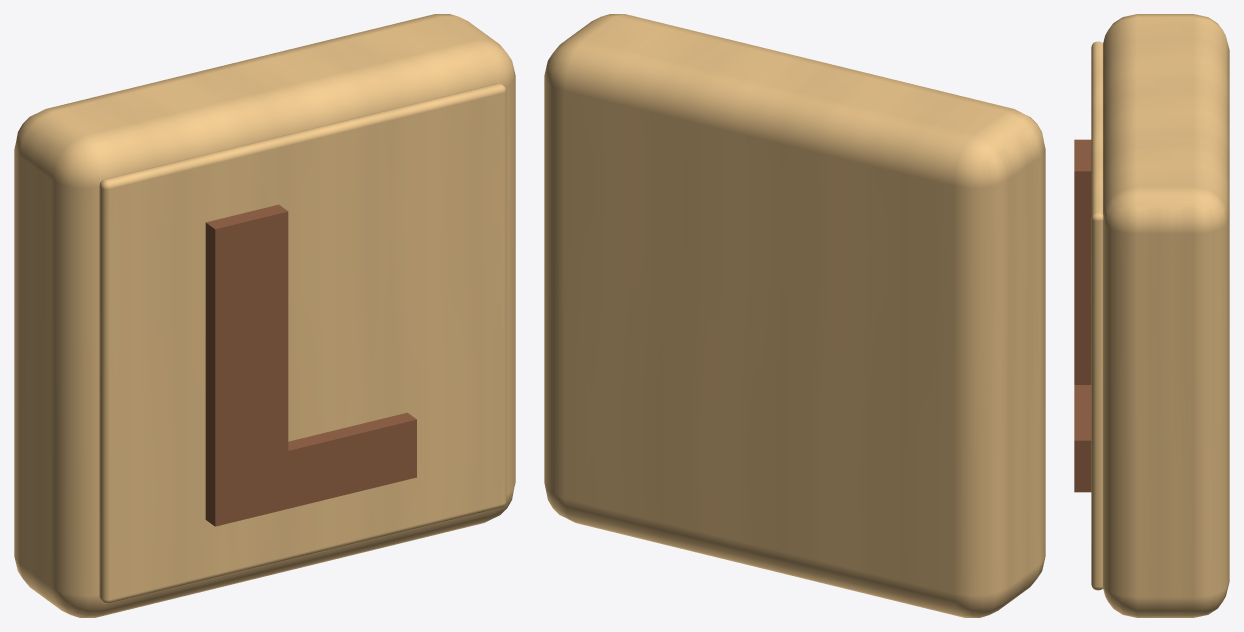
3 renders of one model, left to right at view 1: azimuth 30°, elevation 25°; view 2: azimuth 150°, elevation 25°; view 3: azimuth 270°, elevation 25°, orthographic. The views are drawn at different scales.
Visible parts, largest first — view 1: Tile_L; view 2: Tile_L; view 3: Tile_L.
Part boxes in pixels (box(x1,y1,x2,y2)): Tile_L: box(14, 14, 515, 617); Tile_L: box(544, 14, 1045, 617); Tile_L: box(1074, 14, 1229, 617).
Size of the model in its own units: 0.21 by 0.21 by 0.069.
Materials: 2 (1 with a texture image).
